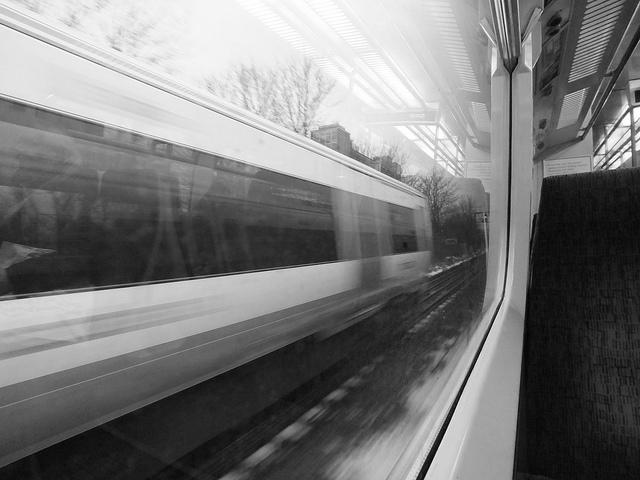Train: (3, 0, 640, 476), (0, 2, 436, 462)
